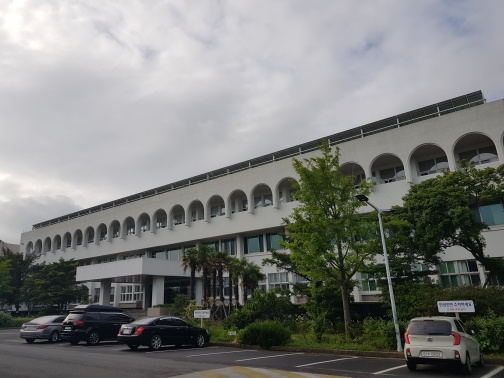Main Building of University: (20, 105, 496, 303), (42, 202, 187, 253), (72, 247, 183, 305)
